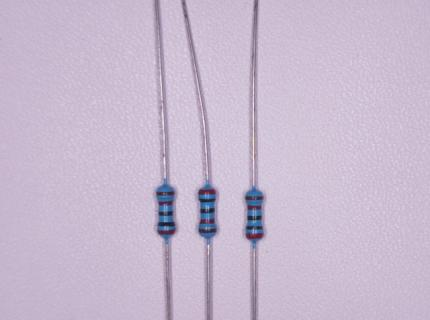Black band: (157, 222, 175, 227), (200, 208, 215, 214), (199, 198, 216, 203), (158, 211, 173, 216), (247, 216, 262, 221), (246, 226, 263, 230)
Brown band: (199, 228, 217, 234), (156, 191, 174, 196), (246, 196, 264, 201)
Red band: (198, 189, 217, 195), (157, 230, 175, 235), (200, 218, 215, 224), (247, 205, 262, 211), (246, 234, 263, 239), (158, 201, 173, 206)
